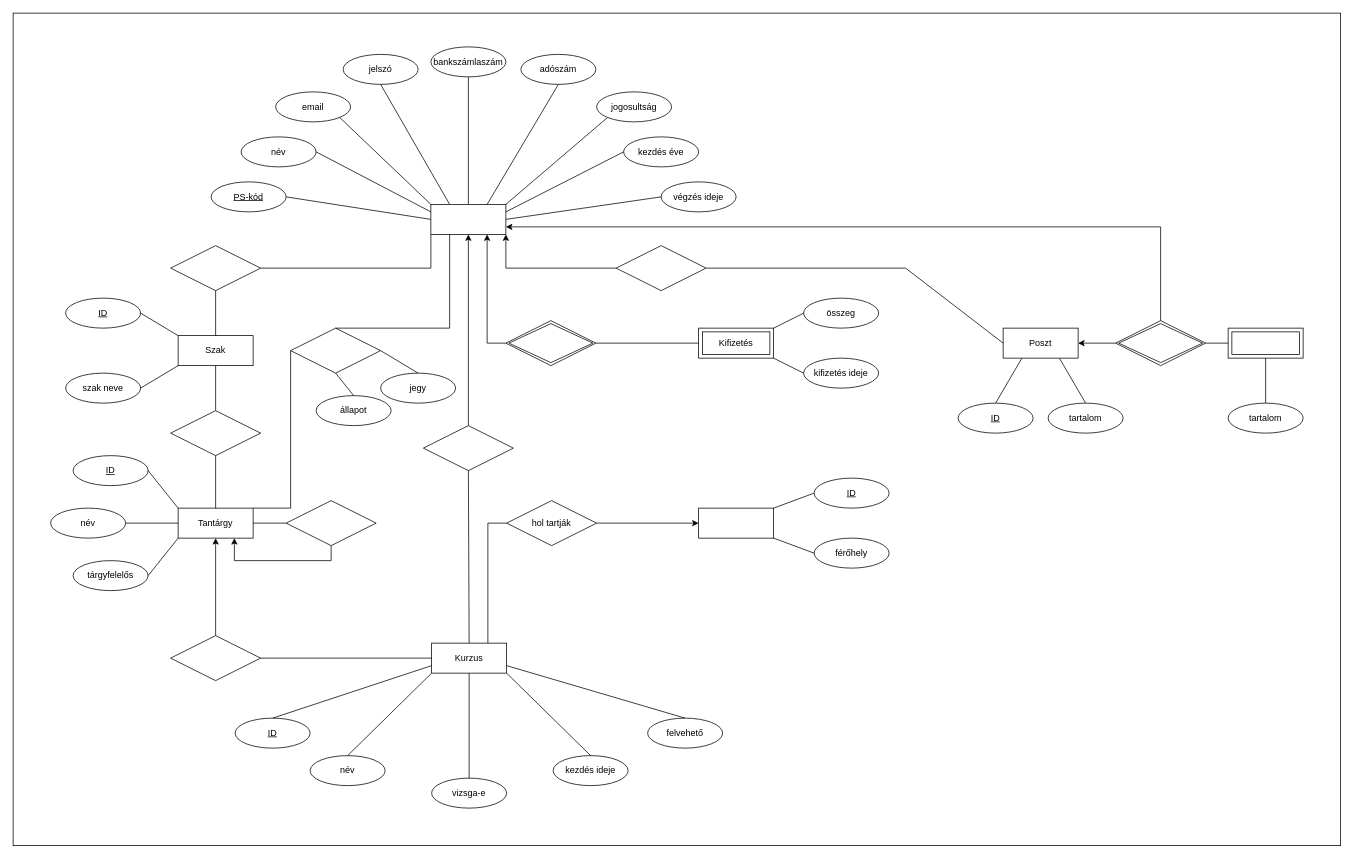
Image size: 1354x859. Some labels were removed from this diagram. Each missing label, with the centre of its shape:
előfeltétele: the point at 330,523
Felhasználó: the point at 468,219
felvette: the point at 335,350
hallgatója: the point at 215,268
kifizetése: the point at 550,343
Komment: the point at 1265,342
kommentje: the point at 1160,343
kurzusa: the point at 215,658
kötelező: the point at 215,433
oktatója: the point at 468,448
posztja: the point at 660,268
Terem: the point at 736,522
